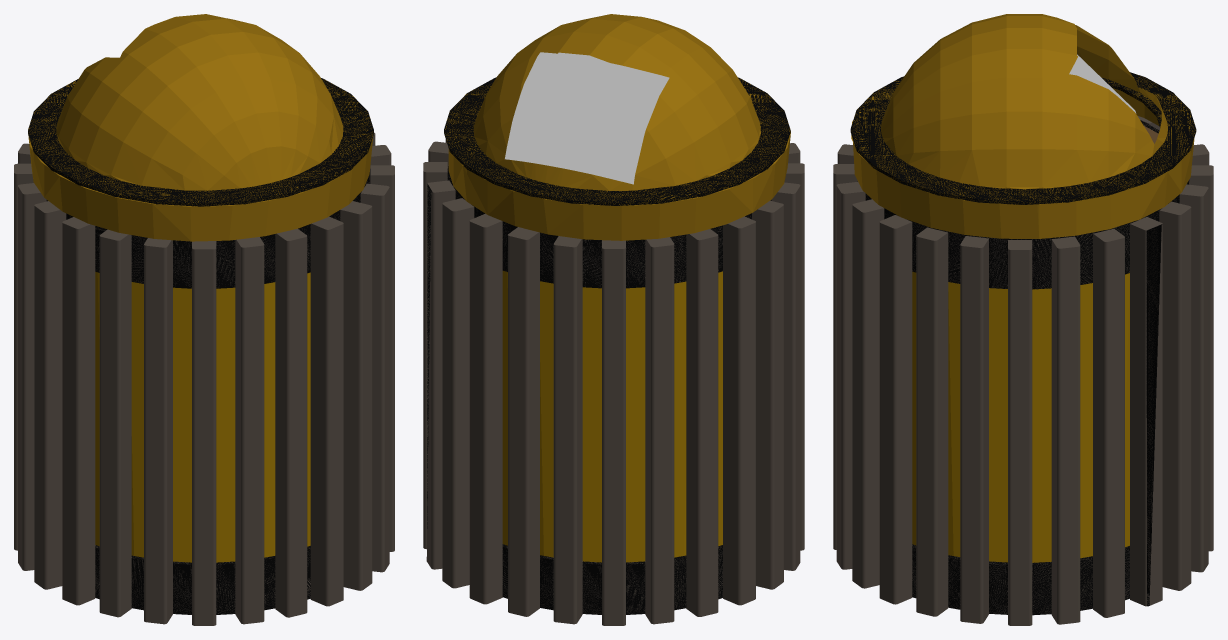
The picture shows the model from 3 angles, left to right: view 1: azimuth 30°, elevation 25°; view 2: azimuth 150°, elevation 25°; view 3: azimuth 270°, elevation 25°; orthographic projection.
Visible parts, largest first — view 1: mesh10.004_mesh10-geometry, mesh4.003_mesh4-geometry, mesh2.017_mesh2-geometry, mesh3.022_mesh3-geometry, mesh3.016_mesh3-geometry, mesh3.014_mesh3-geometry, mesh11.004_mesh11-geometry, mesh2.023_mesh2-geometry, mesh3.015_mesh3-geometry, mesh3.020_mesh3-geometry, mesh3.024_mesh3-geometry, mesh14.004_mesh14-geometry (+7 smaller); view 2: mesh10.004_mesh10-geometry, mesh4.003_mesh4-geometry, mesh2.015_mesh2-geometry, mesh9.003_mesh9-geometry, mesh3.025_mesh3-geometry, mesh3.021_mesh3-geometry, mesh2.016_mesh2-geometry, mesh11.004_mesh11-geometry, mesh3.017_mesh3-geometry, mesh3.019_mesh3-geometry, mesh2.018_mesh2-geometry, mesh3.020_mesh3-geometry (+9 smaller); view 3: mesh10.004_mesh10-geometry, mesh4.003_mesh4-geometry, mesh2.019_mesh2-geometry, mesh2.024_mesh2-geometry, mesh2.021_mesh2-geometry, mesh2.014_mesh2-geometry, mesh11.004_mesh11-geometry, mesh2.018_mesh2-geometry, mesh2.022_mesh2-geometry, mesh2.025_mesh2-geometry, mesh2.023_mesh2-geometry, mesh14.004_mesh14-geometry (+7 smaller).
Part boxes in pixels (x1,y1,x2,y2): mesh10.004_mesh10-geometry: (56, 14, 343, 190); mesh4.003_mesh4-geometry: (95, 272, 310, 562); mesh2.017_mesh2-geometry: (310, 216, 343, 606); mesh3.022_mesh3-geometry: (62, 217, 95, 605); mesh3.016_mesh3-geometry: (275, 228, 307, 617); mesh3.014_mesh3-geometry: (99, 229, 131, 617); mesh11.004_mesh11-geometry: (28, 135, 372, 241); mesh2.023_mesh2-geometry: (340, 201, 372, 590); mesh3.015_mesh3-geometry: (235, 237, 264, 624); mesh3.020_mesh3-geometry: (34, 201, 66, 589); mesh3.024_mesh3-geometry: (144, 238, 172, 624); mesh14.004_mesh14-geometry: (28, 78, 373, 206); mesh10.004_mesh10-geometry: (473, 14, 760, 190); mesh4.003_mesh4-geometry: (502, 270, 722, 562); mesh2.015_mesh2-geometry: (469, 213, 502, 604); mesh9.003_mesh9-geometry: (505, 52, 669, 184); mesh3.025_mesh3-geometry: (723, 216, 755, 605); mesh3.021_mesh3-geometry: (686, 229, 718, 616); mesh2.016_mesh2-geometry: (508, 227, 539, 616); mesh11.004_mesh11-geometry: (448, 131, 790, 240); mesh3.017_mesh3-geometry: (553, 236, 582, 624); mesh3.019_mesh3-geometry: (645, 237, 674, 624); mesh2.018_mesh2-geometry: (442, 198, 474, 588); mesh3.020_mesh3-geometry: (752, 200, 783, 589); mesh10.004_mesh10-geometry: (881, 14, 1167, 189); mesh4.003_mesh4-geometry: (912, 271, 1129, 562); mesh2.019_mesh2-geometry: (879, 215, 912, 604); mesh2.024_mesh2-geometry: (1130, 217, 1162, 606); mesh2.021_mesh2-geometry: (916, 227, 948, 616); mesh2.014_mesh2-geometry: (1093, 228, 1124, 617); mesh11.004_mesh11-geometry: (851, 88, 1194, 238); mesh2.018_mesh2-geometry: (1159, 201, 1191, 590); mesh2.022_mesh2-geometry: (1051, 236, 1080, 624); mesh2.025_mesh2-geometry: (960, 236, 988, 623); mesh2.023_mesh2-geometry: (852, 199, 884, 588); mesh14.004_mesh14-geometry: (850, 72, 1196, 204).
Size of the model in its own units: 0.4852 by 0.7274 by 0.4852.
